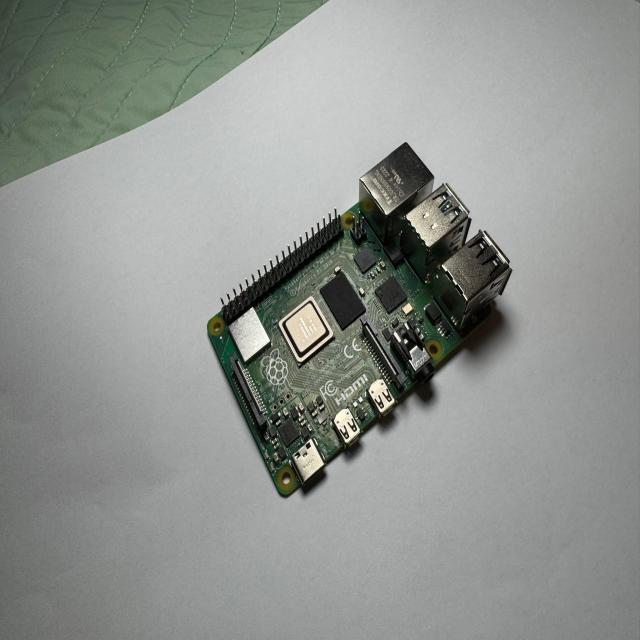CPU: (280, 292, 339, 365)
Ethernet: (358, 142, 437, 223)
GPIO: (217, 216, 354, 326)
RAM: (321, 270, 367, 330)
Raspberry: (205, 144, 513, 500)
micro-hdmi: (332, 409, 361, 448), (368, 380, 393, 417)
